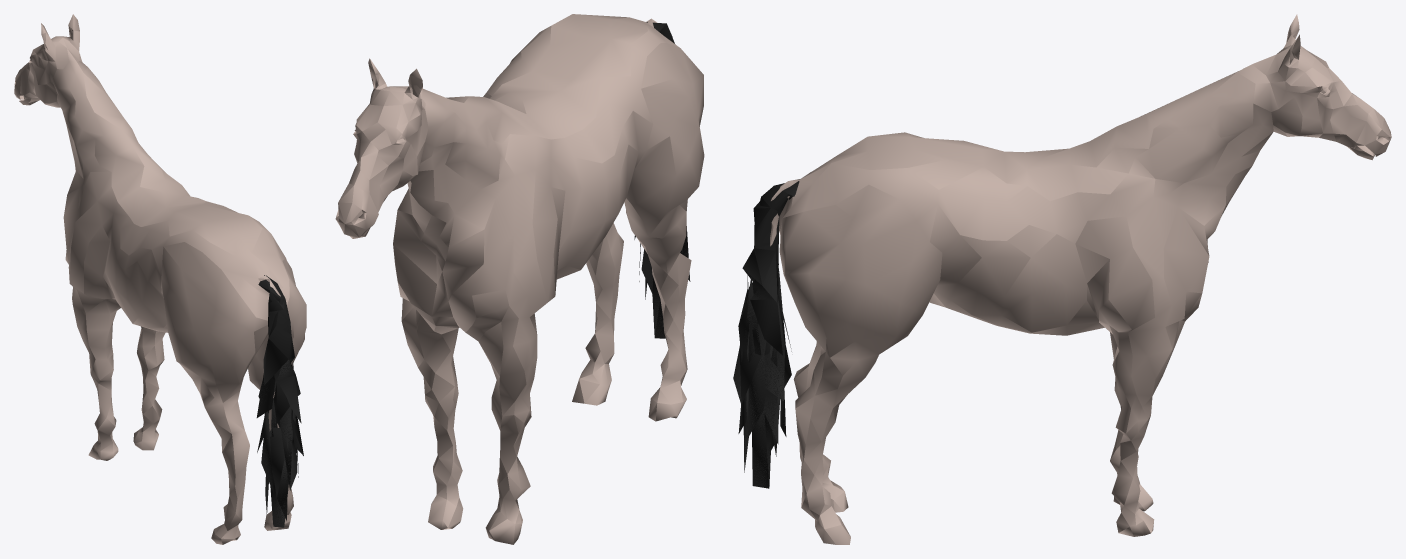
Rendered from mustang.fbx.
3 renders of one model, left to right at view 1: azimuth 30°, elevation 25°; view 2: azimuth 150°, elevation 25°; view 3: azimuth 270°, elevation 25°, orthographic. The views are drawn at different scales.
Parts seen in each view (by area): view 1: Horse.001, horse_fur; view 2: Horse.001, horse_fur; view 3: Horse.001, horse_fur.
Boxes of the visible parts, x1,y1,x2,y2 form: Horse.001: (14,14,306,544); horse_fur: (256,275,303,527); Horse.001: (335,14,704,544); horse_fur: (634,22,690,338); Horse.001: (770,14,1391,544); horse_fur: (733,179,799,488).
Bounding box in the file's own units: 13.89 × 43.7 × 52.8.
